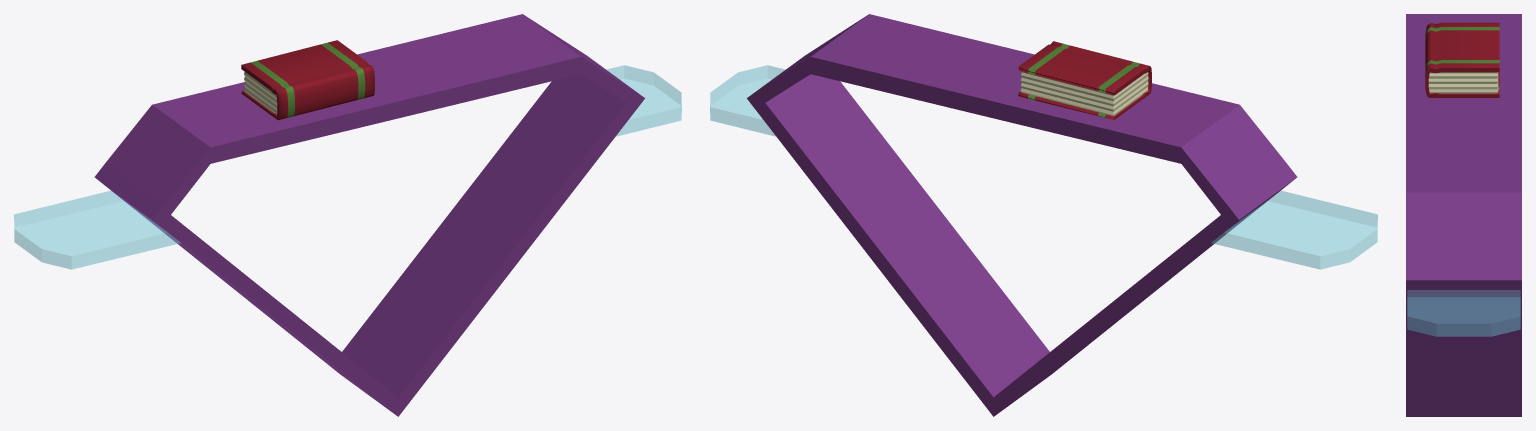
Rendered from shelves_tier18.fbx.
The picture shows the model from 3 angles, left to right: view 1: azimuth 30°, elevation 25°; view 2: azimuth 150°, elevation 25°; view 3: azimuth 270°, elevation 25°; orthographic projection.
Visible parts, largest first — view 1: Cube, Cube.002, Cube.003, Cube.001; view 2: Cube, Cube.002, Cube.003, Cube.001; view 3: Cube, Cube.003, Cube.001.
Part boxes in pixels (x1,y1,x2,y2): Cube: (94,14,644,416); Cube.002: (14,190,180,269); Cube.003: (241,40,374,120); Cube.001: (606,65,681,136); Cube: (747,14,1297,416); Cube.002: (1211,190,1377,269); Cube.003: (1018,41,1151,119); Cube.001: (710,65,785,136); Cube: (1406,14,1521,416); Cube.003: (1425,22,1499,97); Cube.001: (1407,290,1520,336).
Size of the model in its own units: 315 by 163 by 49.9.
